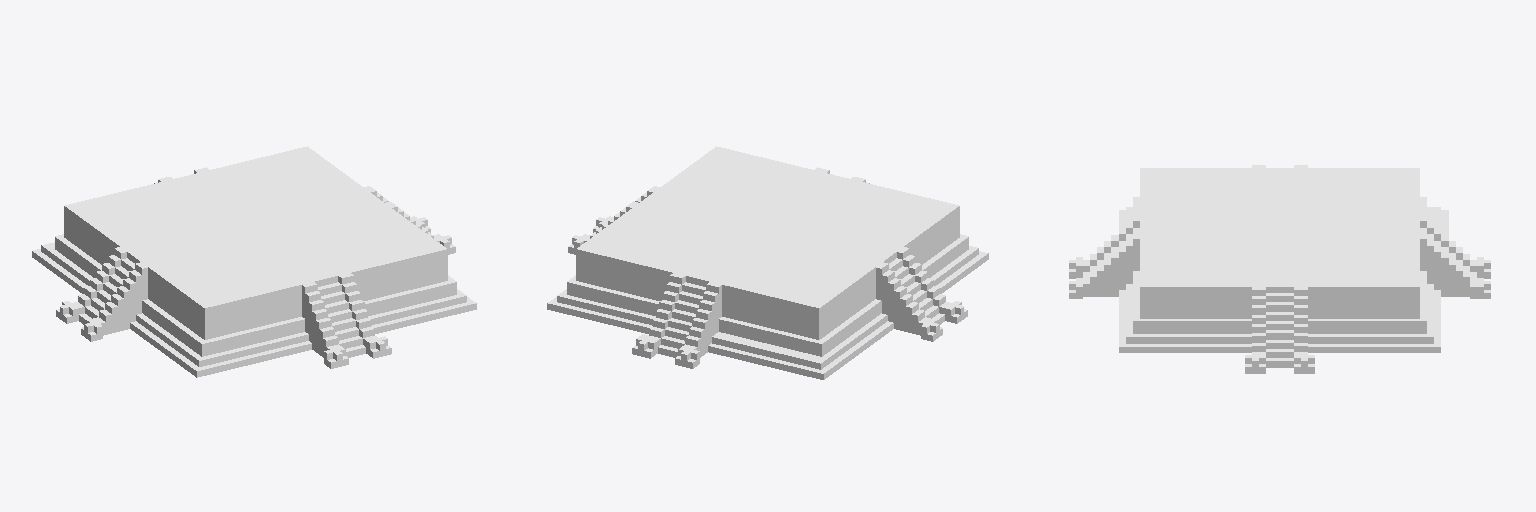
Rendered from chichenitza2.obj.
3 renders of one model, left to right at view 1: azimuth 30°, elevation 25°; view 2: azimuth 150°, elevation 25°; view 3: azimuth 270°, elevation 25°, orthographic.
Bounding box in the file's own units: 60 × 9 × 60.